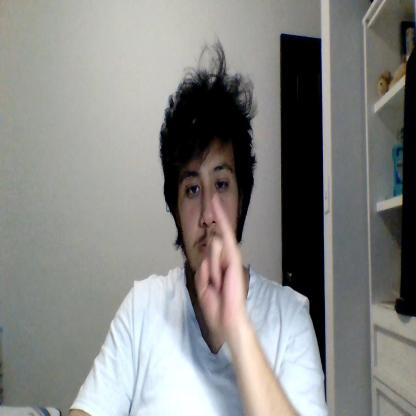I: (194, 196, 245, 332)
